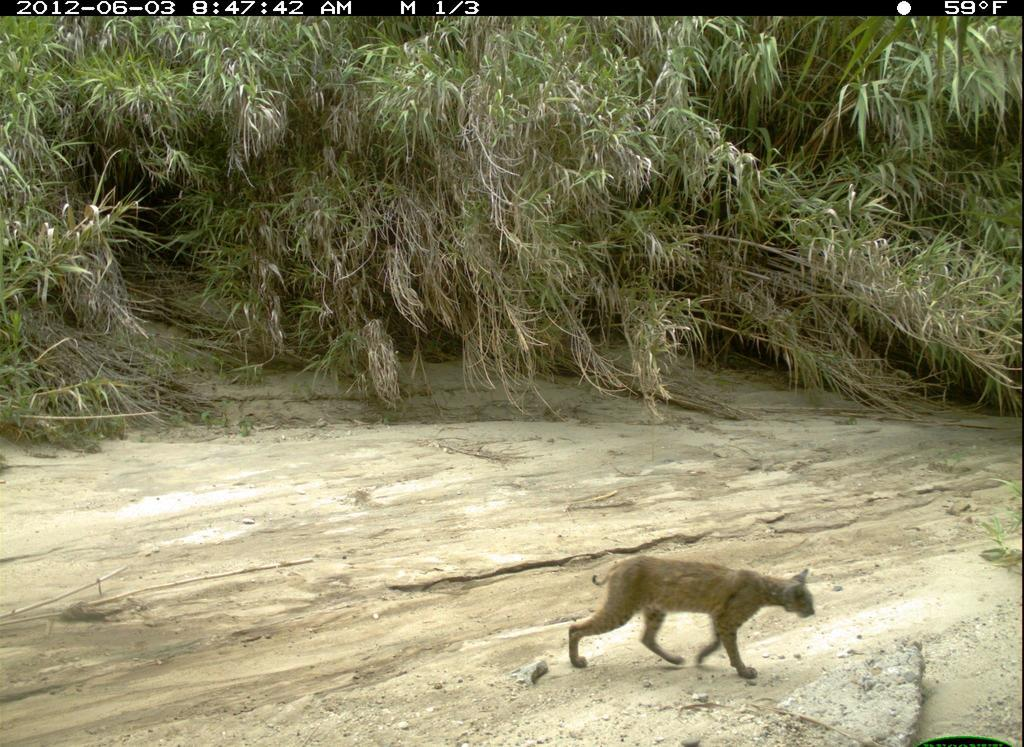bobcat: (561, 539, 834, 688)
